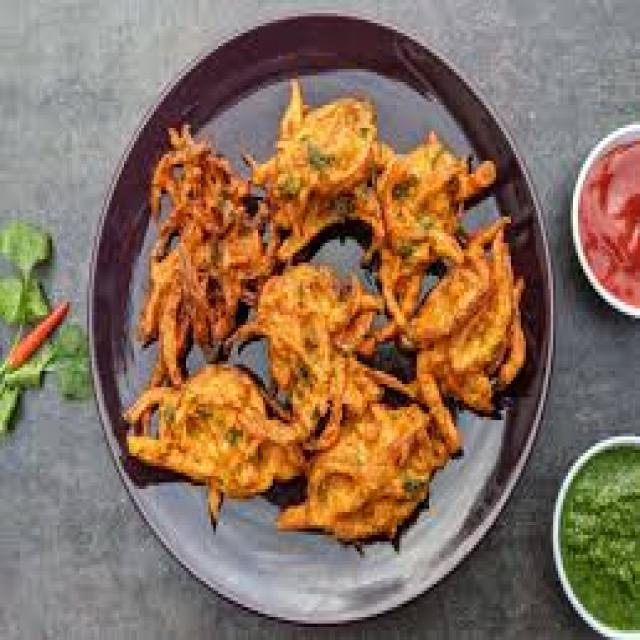BAJI: (146, 128, 262, 383), (127, 361, 293, 508), (272, 403, 437, 544), (263, 264, 381, 444), (409, 227, 517, 396), (352, 147, 481, 283), (267, 98, 367, 255)
